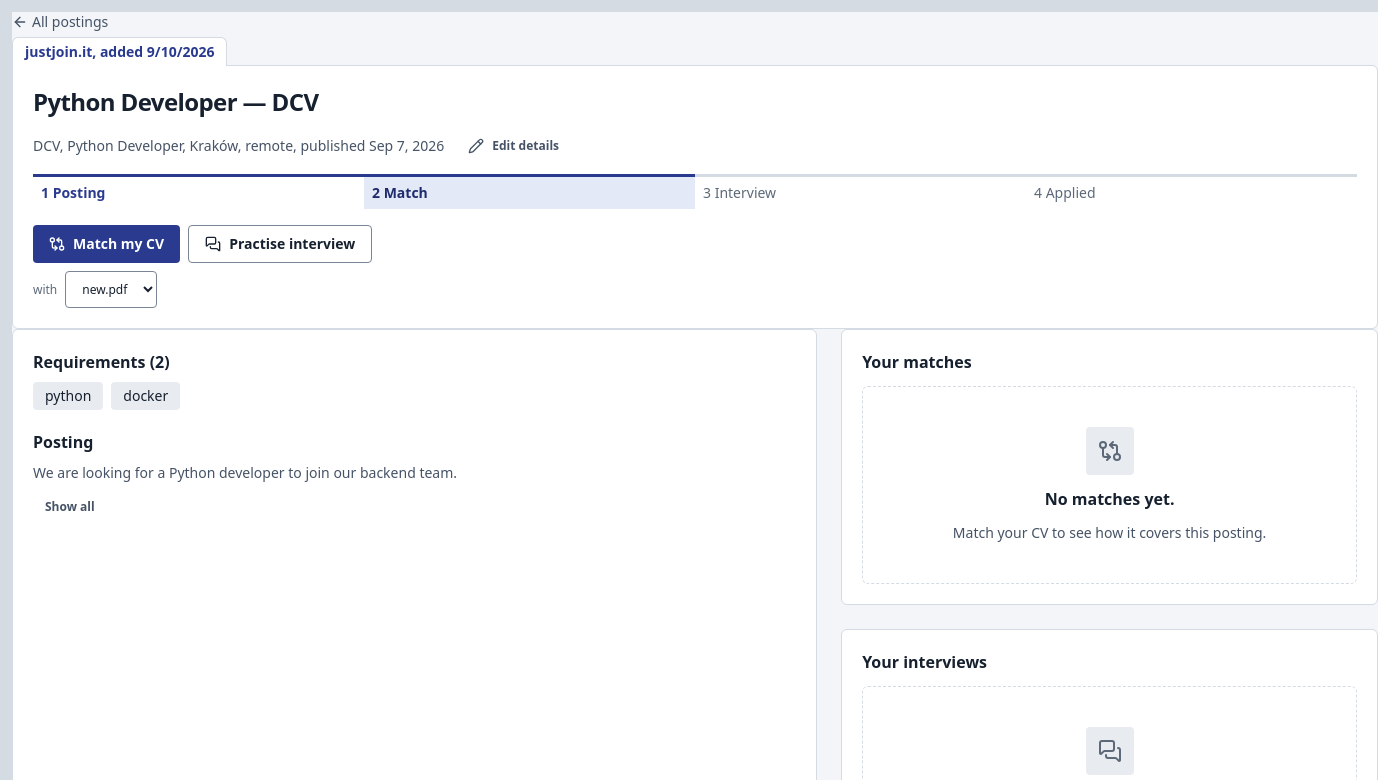
Test: no language model is reported in the API’s words
This screenshot has width=1378, height=780.
Click the button "Practise interview" at (280, 244), box left=188, top=225, right=372, bottom=263
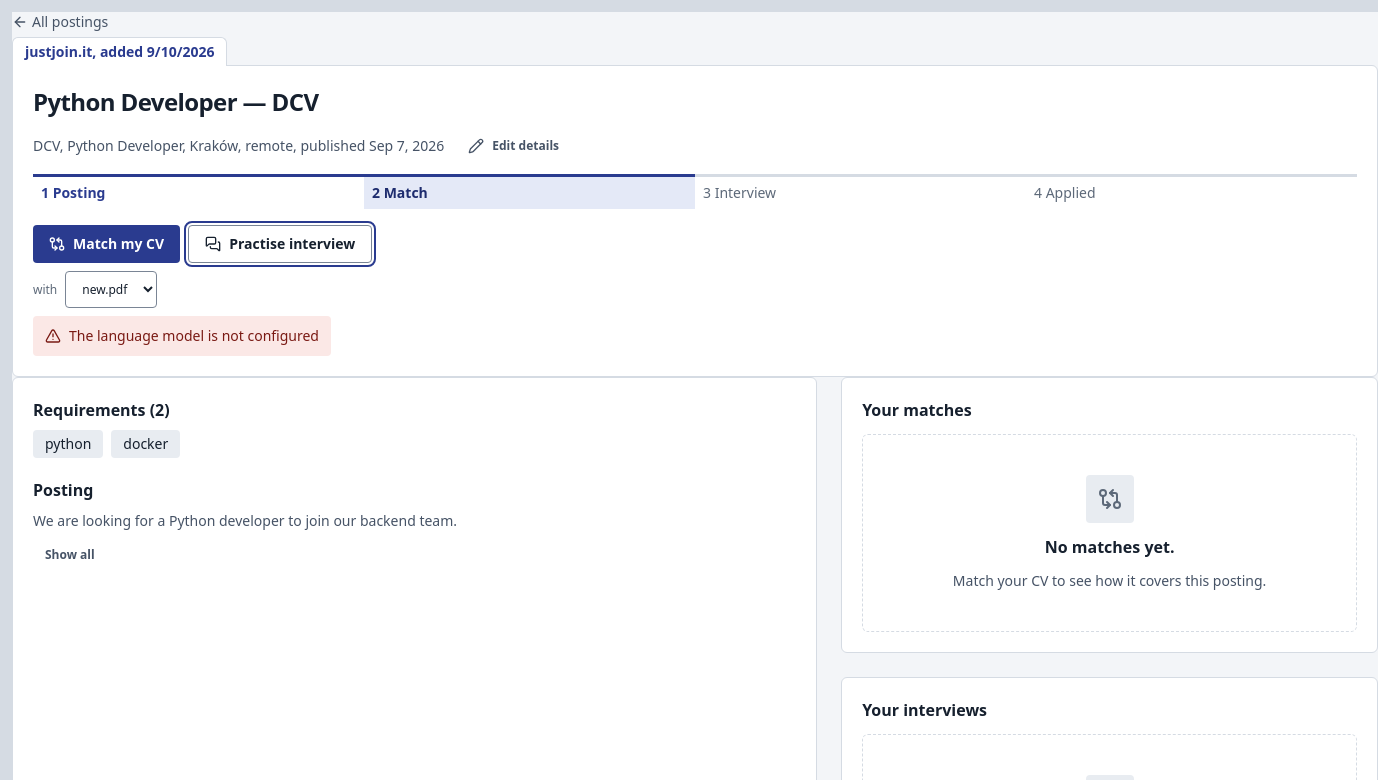
expect the message reads "The language model is not configured": met, box left=69, top=326, right=319, bottom=345
